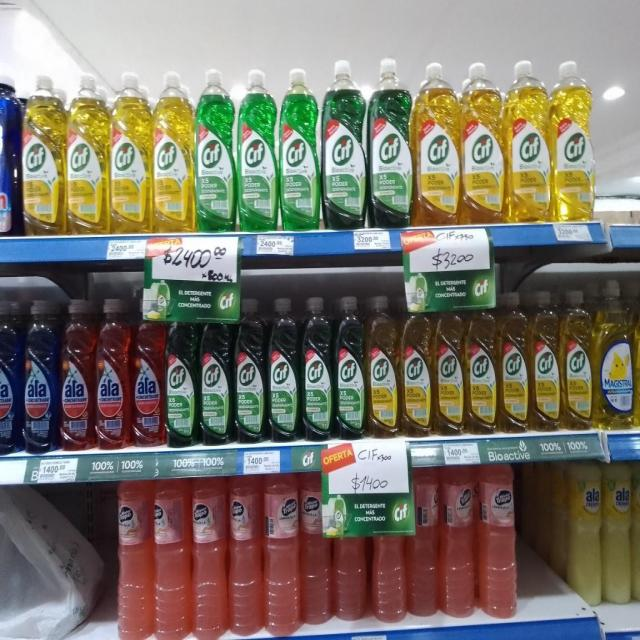ala_conc_azul: (23, 296, 58, 454), (0, 296, 21, 456)
ala_conc_rojo: (95, 298, 131, 452), (60, 298, 94, 452), (132, 302, 164, 449)
ala_crem_amarillo: (566, 461, 602, 606), (602, 459, 632, 607), (632, 460, 640, 604)
ala_crem_rosado: (478, 463, 521, 621), (264, 472, 300, 634), (439, 464, 476, 620), (300, 472, 332, 628)
cif_conc_bot_amarilla: (414, 61, 460, 225), (461, 60, 505, 225), (506, 59, 550, 223), (552, 60, 596, 223), (22, 70, 64, 237), (66, 72, 108, 235), (110, 70, 151, 234), (153, 70, 193, 232), (561, 287, 592, 432), (367, 293, 398, 438), (400, 298, 432, 438), (498, 291, 529, 434), (465, 297, 497, 435), (530, 289, 559, 432), (433, 303, 464, 436)
cif_conc_botella_verde: (322, 58, 366, 230), (369, 56, 412, 228), (237, 68, 277, 233), (195, 68, 235, 233), (279, 67, 319, 232), (233, 296, 266, 444), (301, 295, 333, 442), (268, 296, 299, 443), (335, 293, 365, 440), (165, 315, 198, 448), (200, 316, 232, 446)
heroe: (116, 480, 153, 640)
magistral_con_amarillo: (594, 278, 634, 431), (634, 275, 640, 429)
